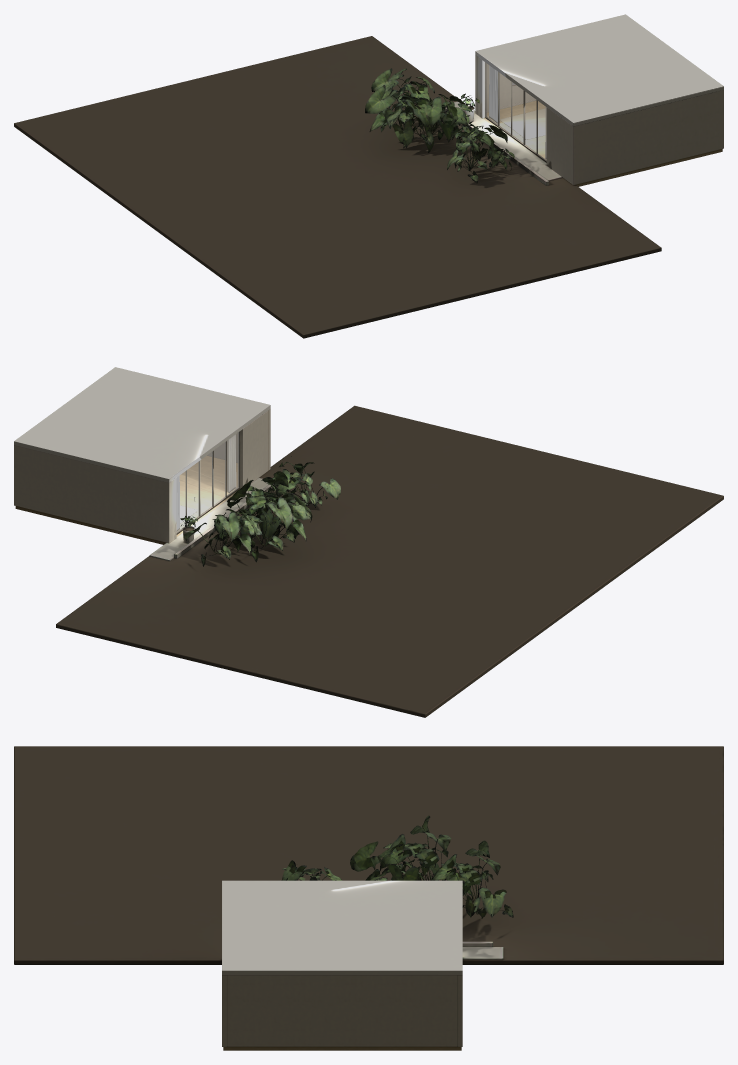
Rendered from fixed-living-room.glb.
3 renders of one model, top to bottom at view 1: azimuth 30°, elevation 25°; view 2: azimuth 150°, elevation 25°; view 3: azimuth 270°, elevation 25°, orthographic. The views are drawn at different scales.
Parts seen in each view (by area): view 1: fixed-garden, architecture.ceiling, architecture.front-wall, fixed-architecture, fixed-textiles, architecture.back-wall, window.glass.01, window.glass.03, window.glass.04, window.glass.02, window.glass.00; view 2: fixed-garden, architecture.ceiling, architecture.back-wall, fixed-architecture, fixed-textiles, window.glass.02, window.glass.03, window.glass.00, window.glass.01; view 3: fixed-garden, architecture.ceiling, architecture.right-wall, fixed-architecture.
Part boxes in pixels (bbox=[...]): fixed-garden: bbox=[14, 36, 661, 338]; architecture.ceiling: bbox=[475, 14, 723, 126]; architecture.front-wall: bbox=[571, 90, 723, 185]; fixed-architecture: bbox=[477, 57, 722, 186]; fixed-textiles: bbox=[489, 65, 546, 158]; architecture.back-wall: bbox=[475, 55, 534, 114]; window.glass.01: bbox=[524, 91, 536, 153]; window.glass.03: bbox=[499, 73, 510, 134]; window.glass.04: bbox=[486, 63, 497, 124]; window.glass.02: bbox=[512, 82, 523, 143]; window.glass.00: bbox=[537, 101, 546, 160]; fixed-garden: bbox=[56, 405, 723, 717]; architecture.ceiling: bbox=[14, 367, 270, 482]; architecture.back-wall: bbox=[14, 445, 171, 543]; fixed-architecture: bbox=[15, 411, 268, 544]; fixed-textiles: bbox=[176, 434, 236, 530]; window.glass.02: bbox=[200, 451, 212, 515]; window.glass.03: bbox=[187, 461, 199, 524]; window.glass.00: bbox=[227, 432, 238, 495]; window.glass.01: bbox=[214, 442, 225, 505]; fixed-garden: bbox=[14, 746, 723, 964]; architecture.ceiling: bbox=[222, 880, 462, 975]; architecture.right-wall: bbox=[227, 975, 457, 1046]; fixed-architecture: bbox=[223, 1047, 461, 1050].
Size of the model in its own units: 28.2 by 3.66 by 28.
Materials: 10 (6 with a texture image).
